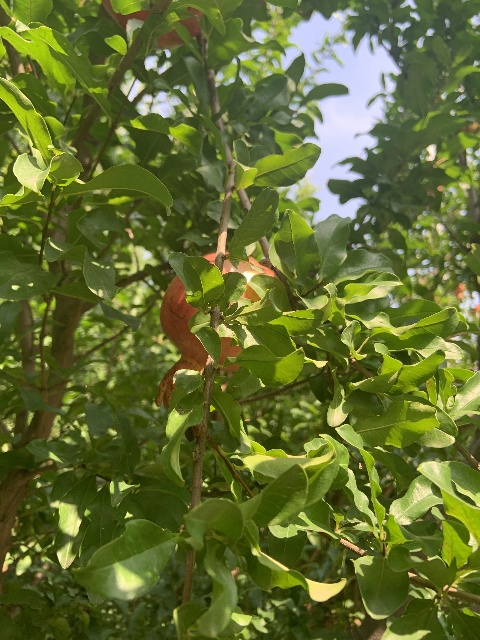ripe: (153, 251, 279, 411)
